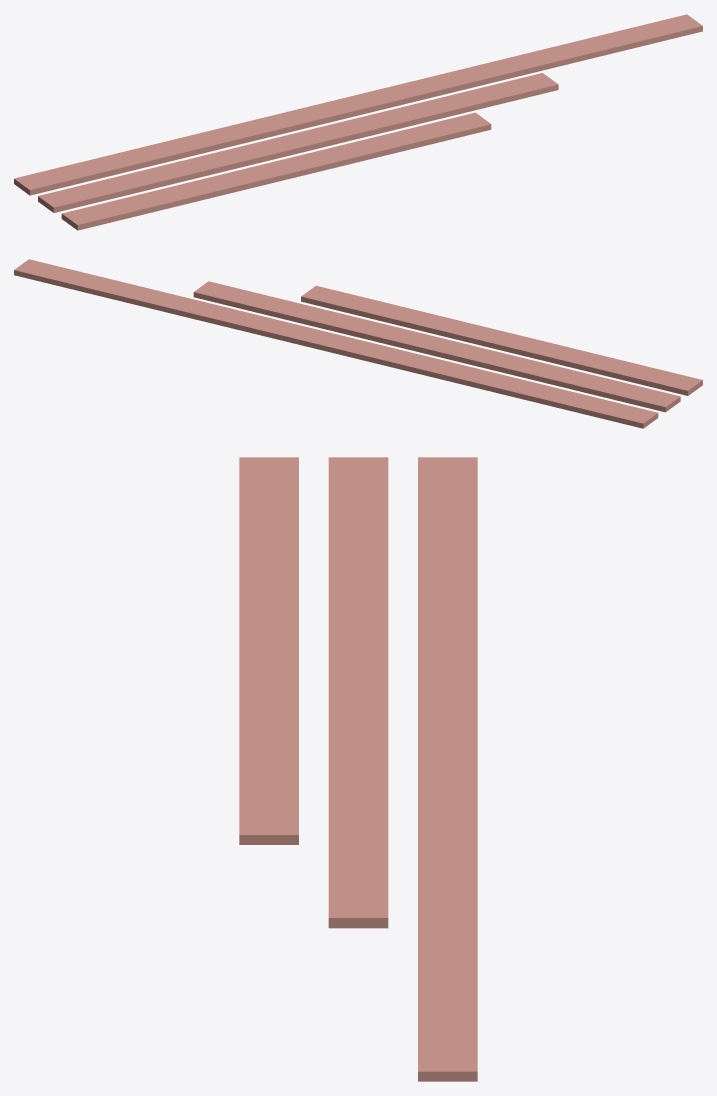
The model's file is deck-board-200x38_carvalho_v0.1.glb.
3 renders of one model, top to bottom at view 1: azimuth 30°, elevation 25°; view 2: azimuth 150°, elevation 25°; view 3: azimuth 270°, elevation 25°, orthographic. The views are drawn at different scales.
Parts seen in each view (by area): view 1: deck-board-200x38_deck-board-200x38_carvalho_4880mm, deck-board-200x38_deck-board-200x38_carvalho_3660mm, deck-board-200x38_deck-board-200x38_carvalho_3000mm; view 2: deck-board-200x38_deck-board-200x38_carvalho_4880mm, deck-board-200x38_deck-board-200x38_carvalho_3660mm, deck-board-200x38_deck-board-200x38_carvalho_3000mm; view 3: deck-board-200x38_deck-board-200x38_carvalho_4880mm, deck-board-200x38_deck-board-200x38_carvalho_3660mm, deck-board-200x38_deck-board-200x38_carvalho_3000mm.
Boxes of the visible parts, x1=… form: deck-board-200x38_deck-board-200x38_carvalho_4880mm: x1=14, y1=14, x2=702, y2=195; deck-board-200x38_deck-board-200x38_carvalho_3660mm: x1=38, y1=73, x2=558, y2=212; deck-board-200x38_deck-board-200x38_carvalho_3000mm: x1=61, y1=112, x2=491, y2=230; deck-board-200x38_deck-board-200x38_carvalho_4880mm: x1=14, y1=259, x2=658, y2=428; deck-board-200x38_deck-board-200x38_carvalho_3660mm: x1=193, y1=281, x2=680, y2=412; deck-board-200x38_deck-board-200x38_carvalho_3000mm: x1=301, y1=285, x2=702, y2=395; deck-board-200x38_deck-board-200x38_carvalho_4880mm: x1=418, y1=457, x2=477, y2=1081; deck-board-200x38_deck-board-200x38_carvalho_3660mm: x1=328, y1=457, x2=388, y2=928; deck-board-200x38_deck-board-200x38_carvalho_3000mm: x1=239, y1=457, x2=298, y2=844.
Bounding box in the file's own units: 4.88 × 0.038 × 0.8.
